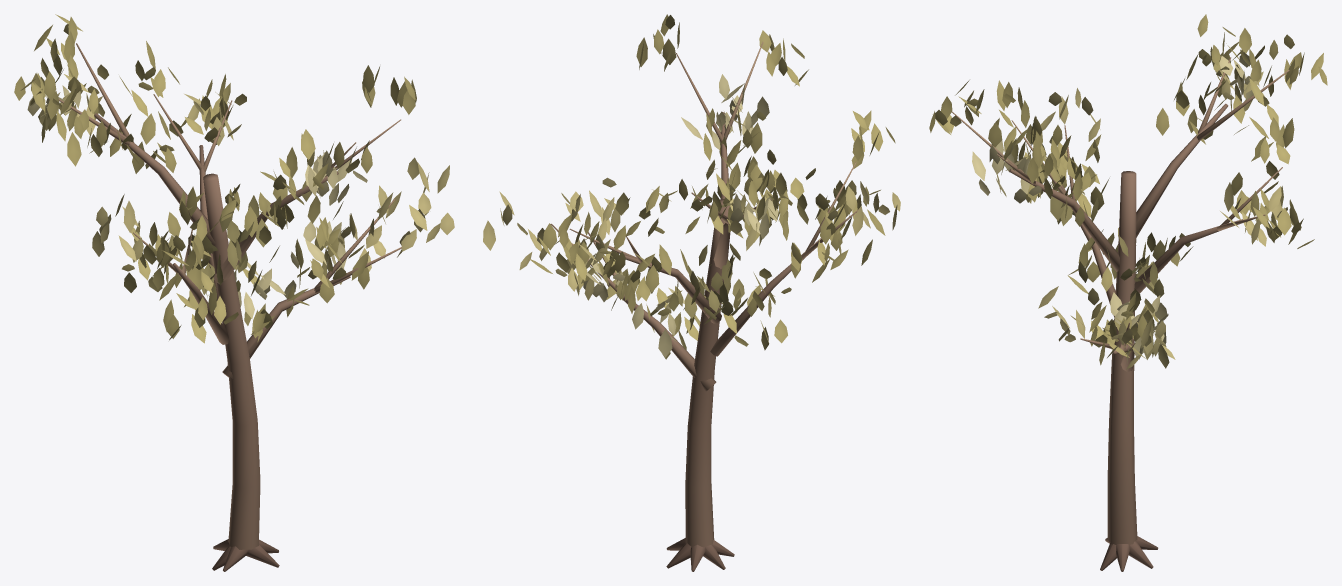
File: tree_3d_06_yellow.glb
3 views of the same model, side by side, from view 1: azimuth 30°, elevation 25°; view 2: azimuth 150°, elevation 25°; view 3: azimuth 270°, elevation 25° (orthographic). The views are drawn at different scales.
Visible parts, largest first — view 1: tree_3d_06_yellow_foliage, tree_3d_06_yellow_wood; view 2: tree_3d_06_yellow_foliage, tree_3d_06_yellow_wood; view 3: tree_3d_06_yellow_foliage, tree_3d_06_yellow_wood.
Boxes of the visible parts, x1,y1,x2,y2 form: tree_3d_06_yellow_foliage: (14,14,454,343); tree_3d_06_yellow_wood: (59,43,401,571); tree_3d_06_yellow_foliage: (483,14,900,359); tree_3d_06_yellow_wood: (550,42,858,571); tree_3d_06_yellow_foliage: (929,14,1327,369); tree_3d_06_yellow_wood: (951,57,1289,571).
Bounding box in the file's own units: 6.87 × 8.75 × 6.39.
